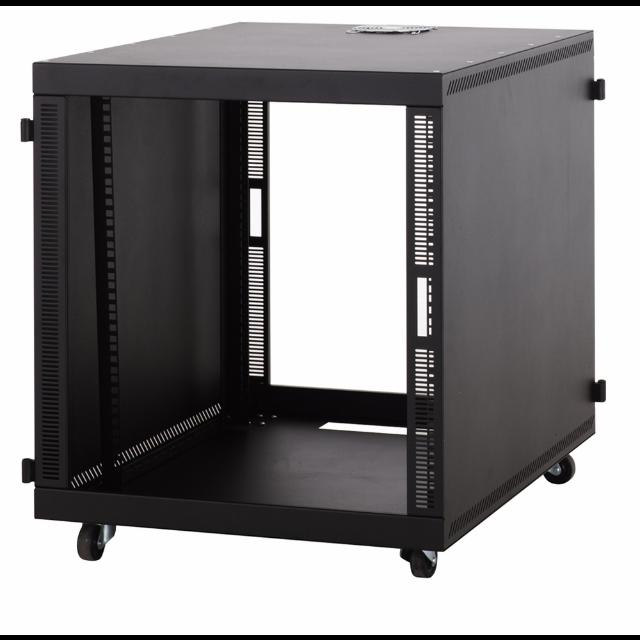Server: (26, 19, 600, 577)
